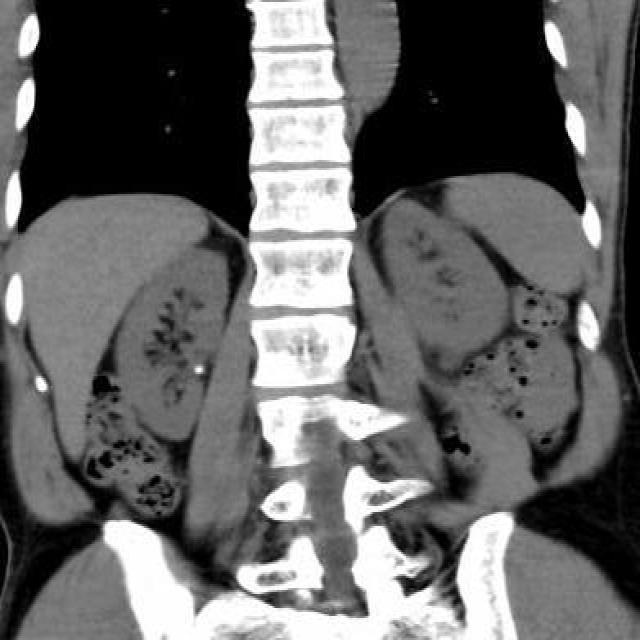Tas_Var: (191, 362, 205, 378)
